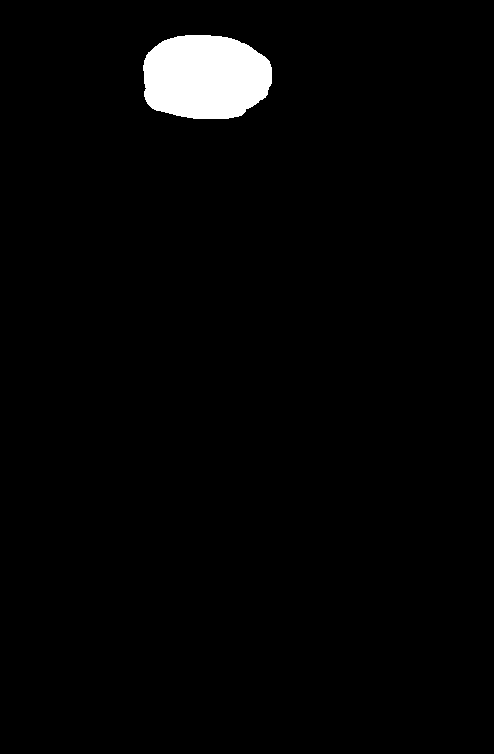veins_detect: (131, 27, 291, 127)
veins_seg: (144, 36, 271, 119)
